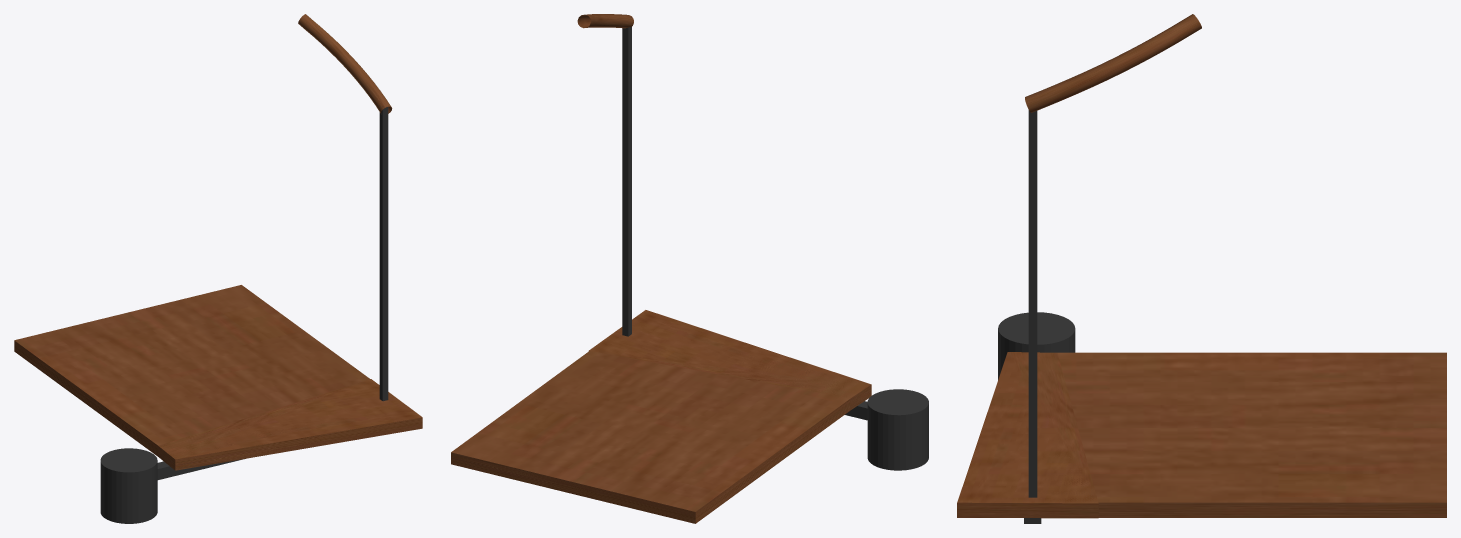
Rendered from Landing.glb.
The picture shows the model from 3 angles, left to right: view 1: azimuth 30°, elevation 25°; view 2: azimuth 150°, elevation 25°; view 3: azimuth 270°, elevation 25°; orthographic projection. The views are drawn at different scales.
Visible parts, largest first — view 1: Cube.1308, Cube.002, Cylinder, Cube.001, Spiral.001, Cube; view 2: Cube.1308, Cube.002, Cylinder, Cube.001, Spiral.001; view 3: Cube.1308, Cube.002, Cube.001, Spiral.001, Cylinder.
Boxes of the visible parts, box(x1,y1,x2,y2) form: Cube.1308: box(14, 285, 370, 458); Cube.002: box(158, 379, 422, 470); Cylinder: box(100, 448, 157, 523); Cube.001: box(379, 106, 388, 401); Spiral.001: box(298, 14, 392, 113); Cube: box(157, 458, 245, 479); Cube.1308: box(451, 329, 869, 523); Cube.002: box(589, 310, 871, 410); Cylinder: box(867, 389, 928, 470); Cube.001: box(622, 17, 631, 336); Spiral.001: box(577, 14, 633, 28); Cube.1308: box(1012, 352, 1446, 517); Cube.002: box(957, 352, 1098, 518); Cube.001: box(1028, 110, 1037, 497); Spiral.001: box(1025, 14, 1201, 112); Cylinder: box(998, 312, 1075, 379).
Size of the model in its own units: 1.03 by 1.35 by 1.12.
Materials: 7 (3 with a texture image).
